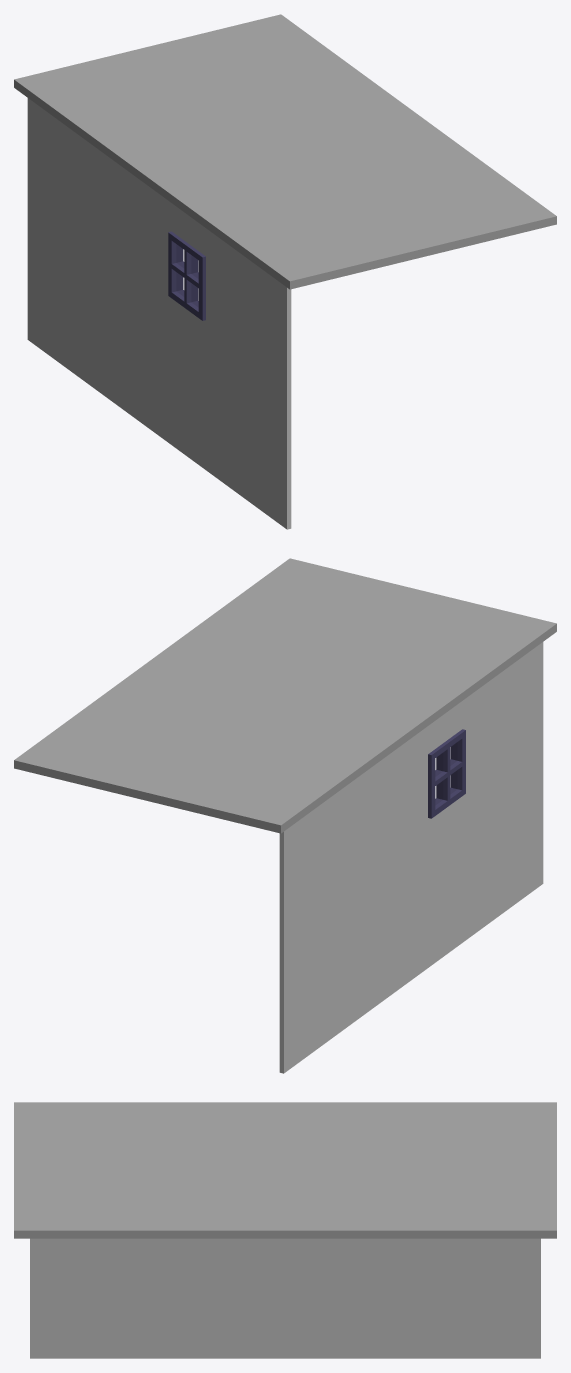
The model's file is Set.fbx.
The picture shows the model from 3 angles, top to bottom: view 1: azimuth 30°, elevation 25°; view 2: azimuth 150°, elevation 25°; view 3: azimuth 270°, elevation 25°; orthographic projection.
Parts seen in each view (by area): view 1: Celing, Wall, Window; view 2: Celing, Wall, Window; view 3: Celing, Wall.
Part boxes in pixels (bbox=[...]): Celing: bbox=[14, 14, 556, 289]; Wall: bbox=[27, 98, 291, 529]; Window: bbox=[168, 231, 205, 320]; Celing: bbox=[14, 558, 556, 833]; Wall: bbox=[279, 642, 543, 1073]; Window: bbox=[428, 729, 465, 818]; Celing: bbox=[14, 1102, 556, 1238]; Wall: bbox=[30, 1238, 540, 1358].
Size of the model in its own units: 8.92 by 8.15 by 15.95.
